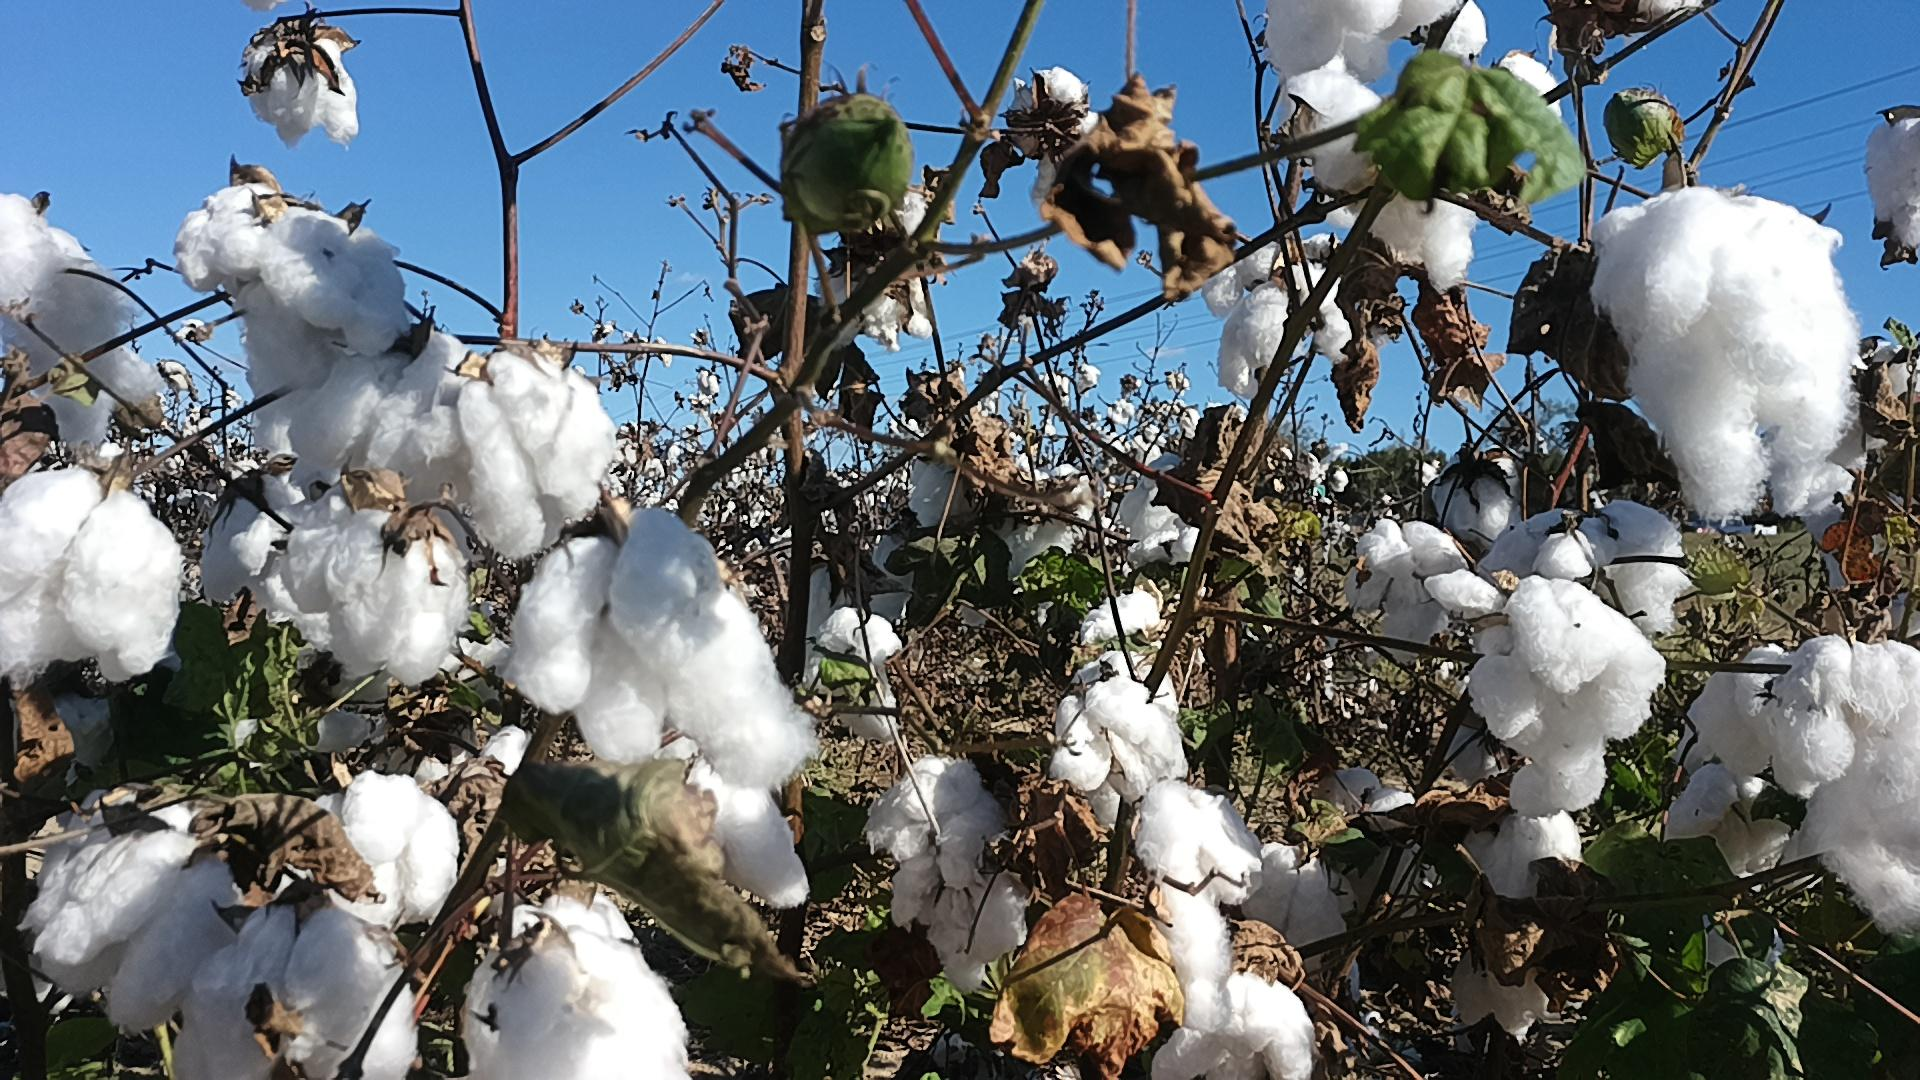cotton_ready: (1593, 190, 1855, 527), (504, 513, 818, 791), (1684, 636, 1920, 935), (1468, 575, 1665, 812), (20, 831, 245, 1033), (1283, 59, 1474, 293), (167, 903, 418, 1080), (0, 190, 167, 454), (0, 468, 189, 687), (274, 493, 468, 679), (458, 345, 618, 559), (512, 890, 688, 1080), (1138, 783, 1262, 1035), (286, 335, 469, 502), (204, 208, 410, 355), (1472, 502, 1688, 633), (1205, 233, 1361, 400), (302, 770, 460, 928), (669, 733, 808, 907), (198, 465, 330, 647), (1048, 675, 1185, 831), (460, 928, 597, 1080), (891, 845, 1029, 997), (1348, 524, 1498, 657), (1150, 976, 1317, 1080), (864, 758, 1007, 866), (244, 28, 363, 157), (1263, 0, 1448, 75), (1073, 588, 1179, 713), (1007, 66, 1101, 207), (1324, 770, 1418, 905), (1457, 811, 1588, 907), (814, 605, 903, 742), (1242, 843, 1358, 944), (810, 262, 935, 355), (1118, 451, 1208, 575), (63, 775, 220, 839), (1010, 465, 1098, 574), (1452, 965, 1551, 1052), (1862, 111, 1920, 247), (1432, 465, 1518, 553), (907, 443, 981, 529), (849, 189, 934, 249), (1622, 0, 1708, 25)
